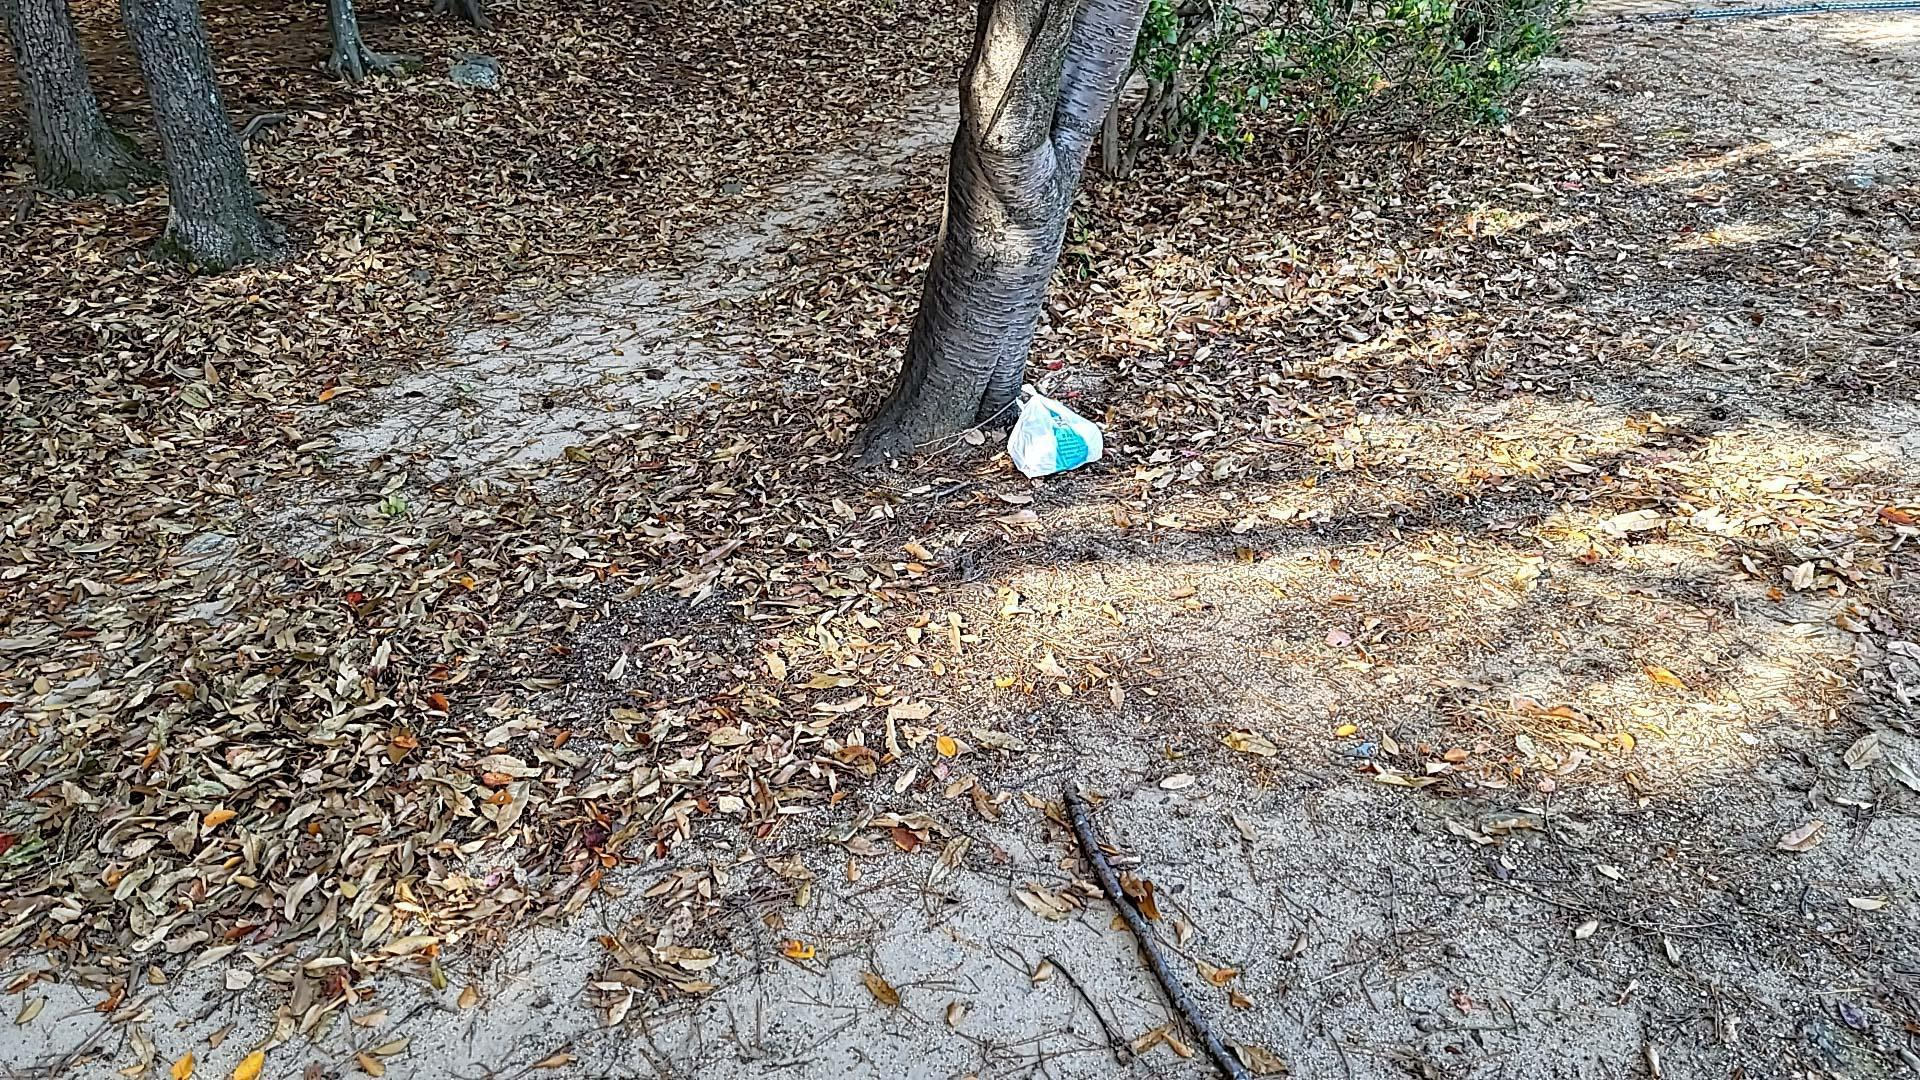white_bag: (1000, 369, 1116, 489)
